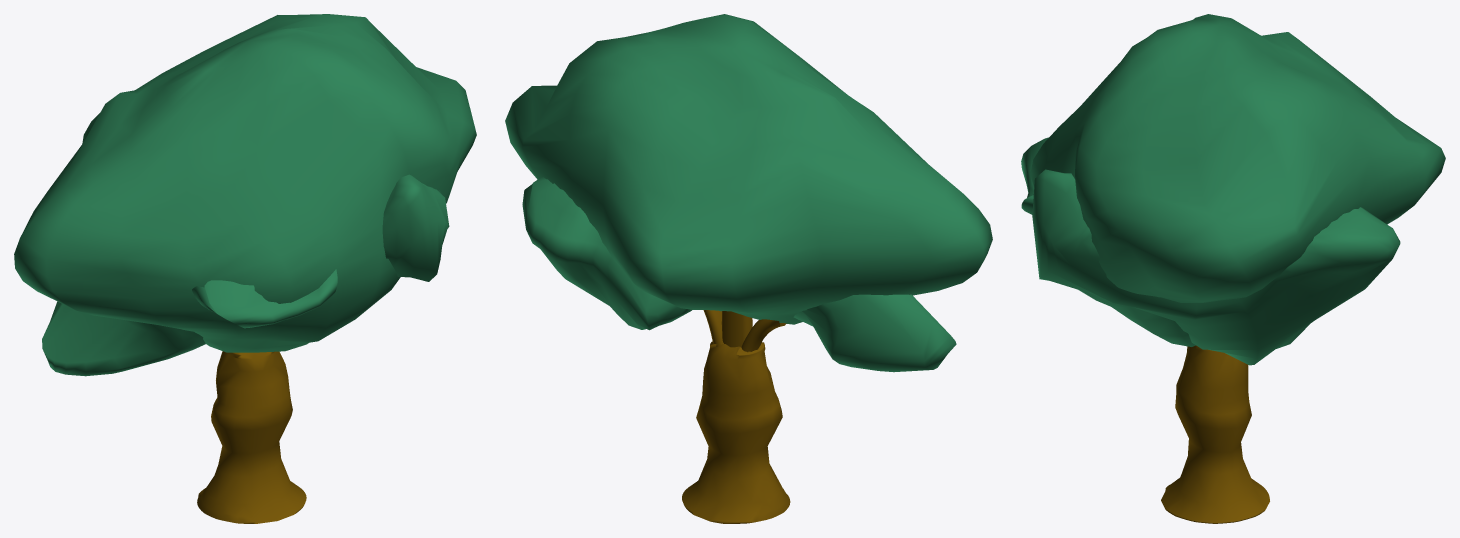
Rendered from LowPolyTree.fbx.
The picture shows the model from 3 angles, left to right: view 1: azimuth 30°, elevation 25°; view 2: azimuth 150°, elevation 25°; view 3: azimuth 270°, elevation 25°; orthographic projection. The views are drawn at different scales.
Parts seen in each view (by area): view 1: pSphere1, extrudedSurface1, pSphere3, pSphere2; view 2: pSphere1, extrudedSurface1, pSphere3, pSphere2, extrudedSurface2, extrudedSurface4; view 3: pSphere1, pSphere2, extrudedSurface1, pSphere3.
Boxes of the visible parts, x1,y1,x2,y2 form: pSphere1: [14, 14, 476, 352]; extrudedSurface1: [197, 351, 306, 523]; pSphere3: [42, 269, 337, 376]; pSphere2: [382, 174, 449, 281]; pSphere1: [505, 14, 992, 324]; extrudedSurface1: [682, 341, 790, 523]; pSphere3: [793, 294, 956, 372]; pSphere2: [522, 177, 692, 330]; extrudedSurface2: [721, 311, 752, 347]; extrudedSurface4: [741, 319, 786, 352]; pSphere1: [1030, 14, 1445, 346]; pSphere2: [1032, 169, 1400, 365]; extrudedSurface1: [1161, 345, 1269, 523]; pSphere3: [1021, 137, 1048, 214].
Size of the model in its own units: 41.07 by 39.25 by 31.35.
